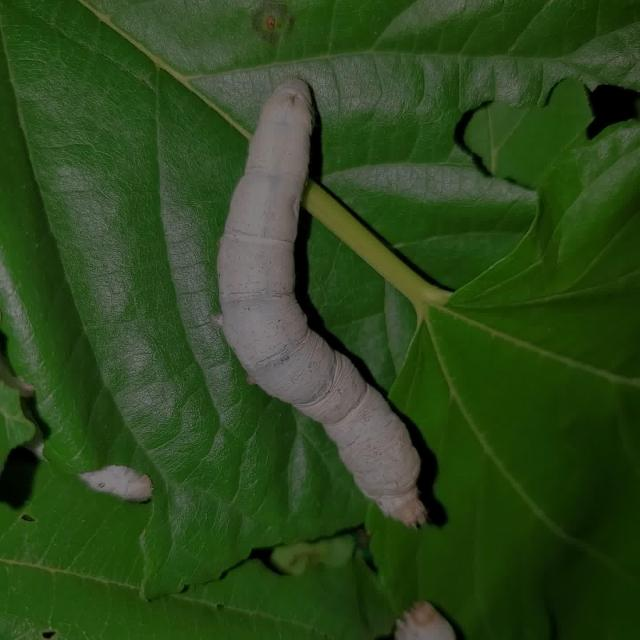Healthy: (173, 54, 480, 544)
